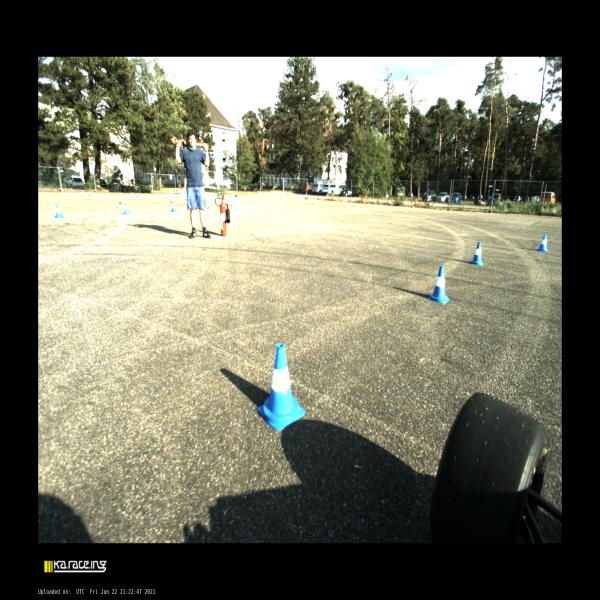blue_cone: (258, 342, 304, 430), (428, 266, 450, 304), (470, 241, 484, 267), (537, 234, 548, 251), (55, 204, 64, 218), (122, 203, 130, 215), (171, 203, 176, 212)
